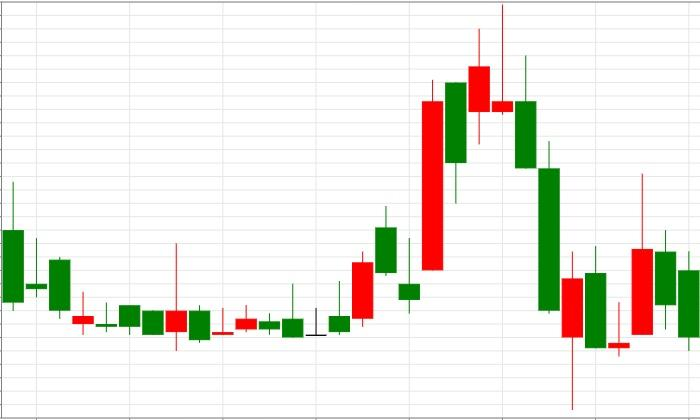morning_star_rise: (468, 5, 653, 410)
